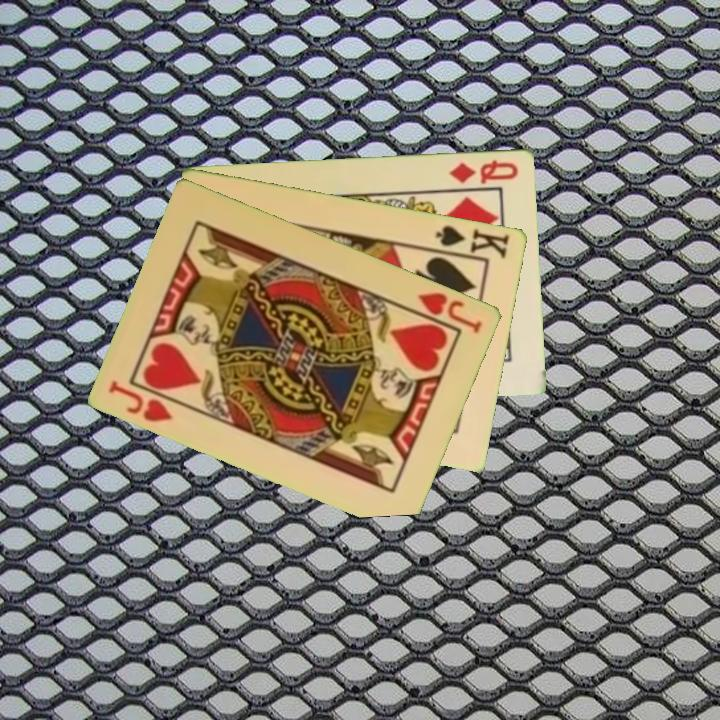Jh: (105, 376, 176, 425), (415, 288, 486, 336)
Ks: (429, 221, 513, 261)
Qd: (446, 156, 522, 186)
